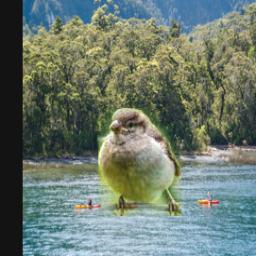Sparrow: (98, 108, 181, 216)
